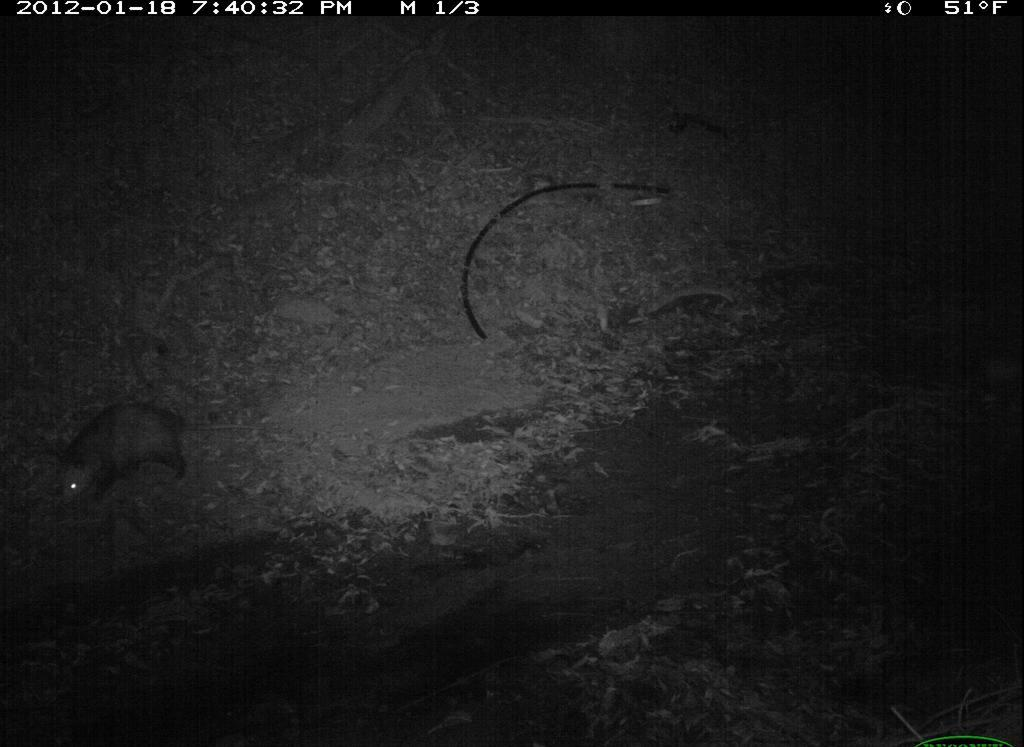opossum: (47, 391, 276, 527)
